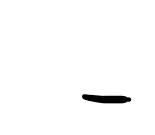minus: (82, 94, 130, 106)
